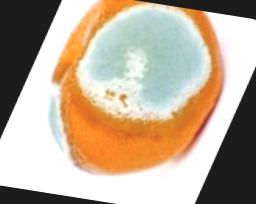Orange Rotten: (33, 0, 238, 202)
